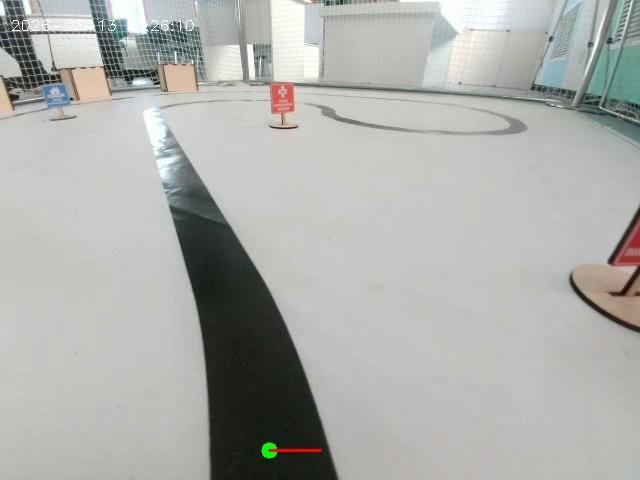flood: (31, 78, 88, 125)
medical: (258, 76, 307, 133)
